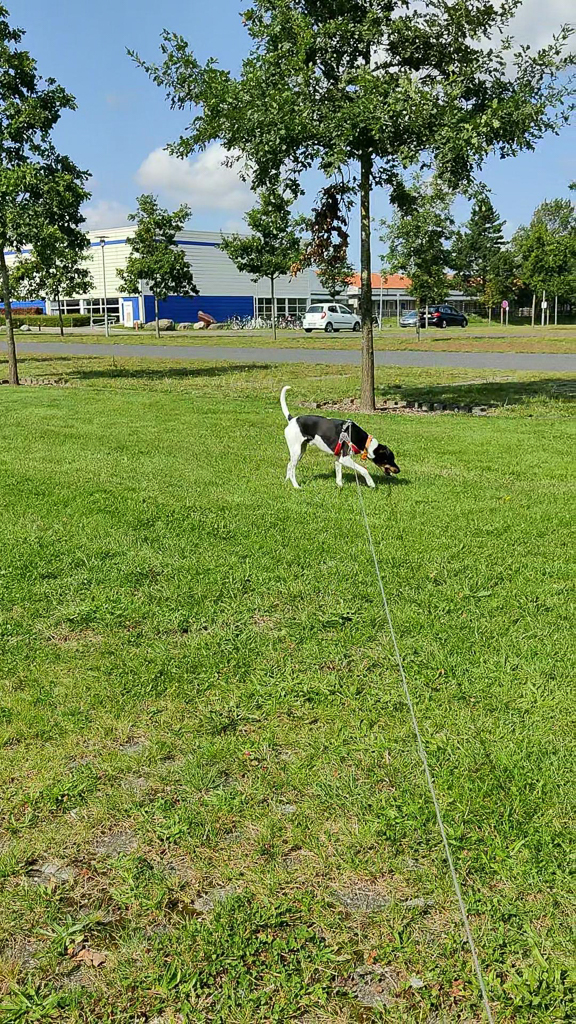Dog: (269, 377, 409, 498)
